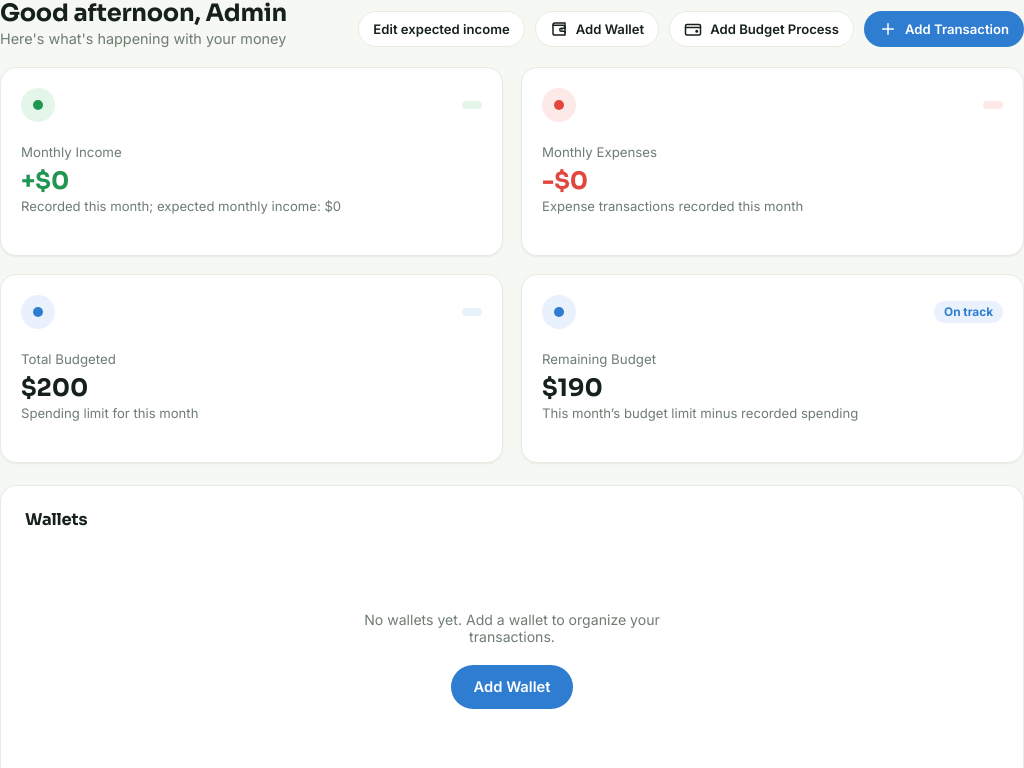
opens the same form from the empty-state action and preserves values after a failed save
Click the 2nd button "Add Wallet". click: (512, 687)
box: [451,665,573,709]
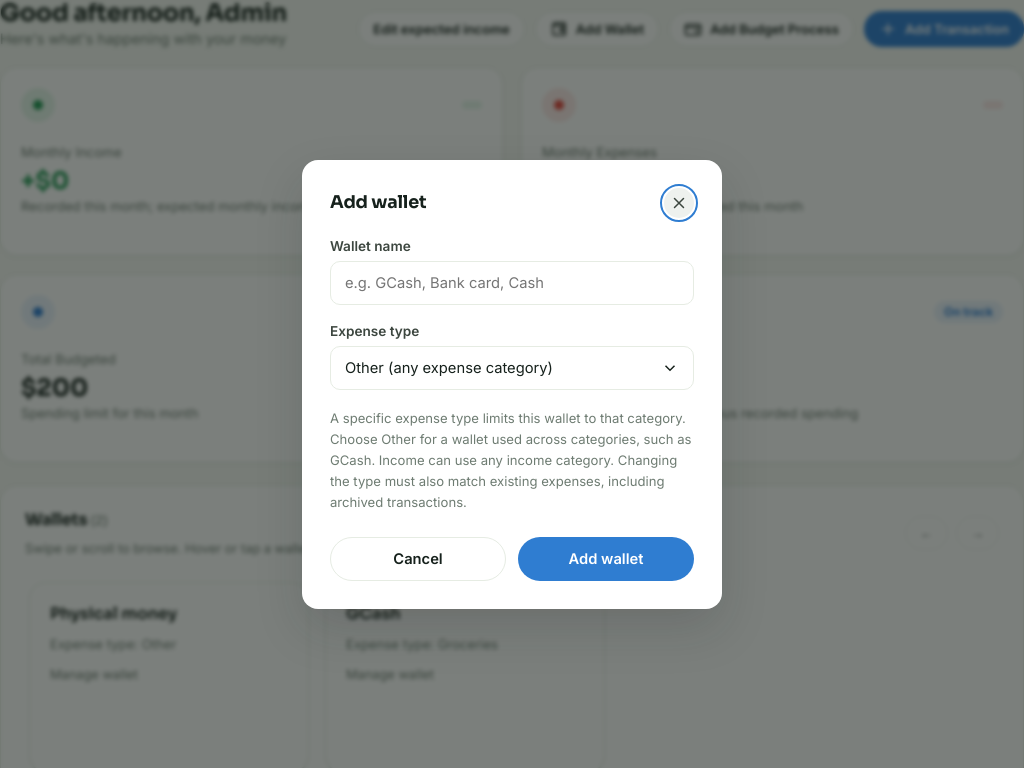
Type "Travel wallet" into the field labelled "Wallet name". click: (512, 282)
box: [330,260,694,304]
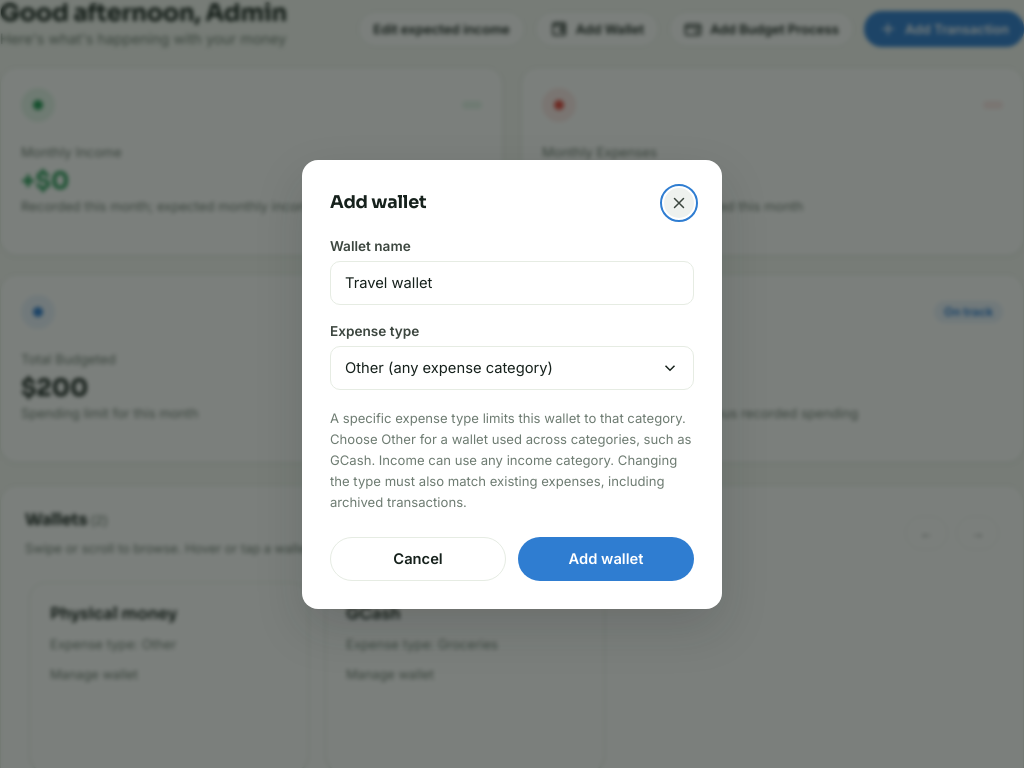
Click the button named "Choose expense type". click: (670, 368)
box: [650,350,690,386]
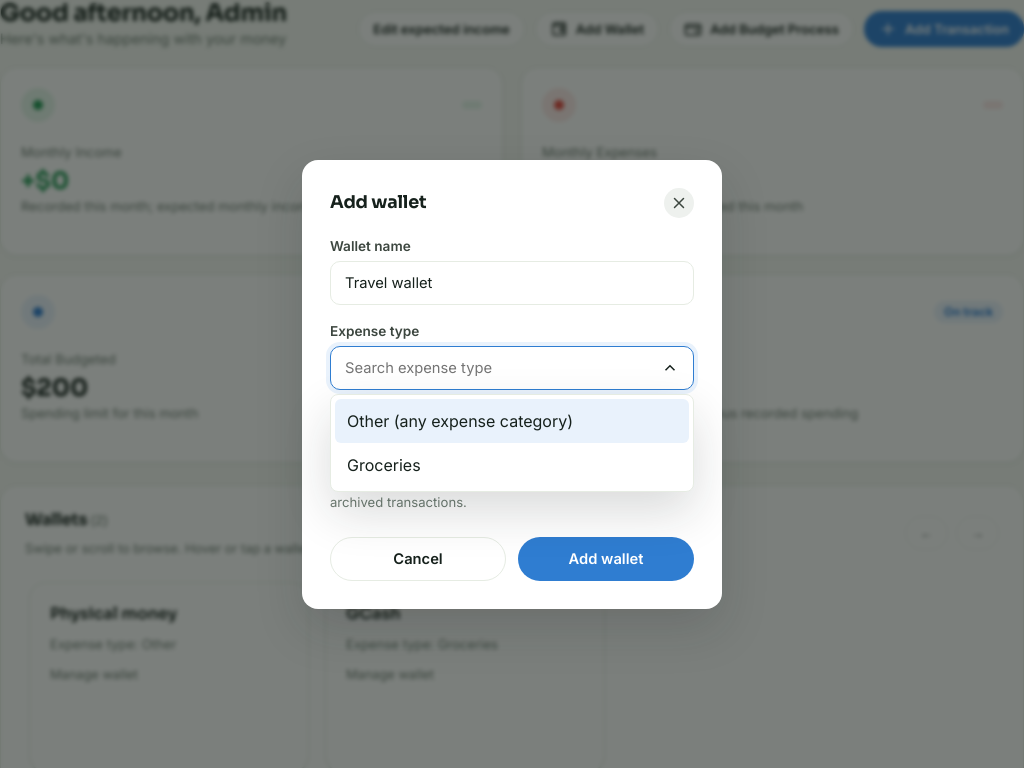
Click the option "Groceries". click: (384, 464)
box: [347,454,421,474]
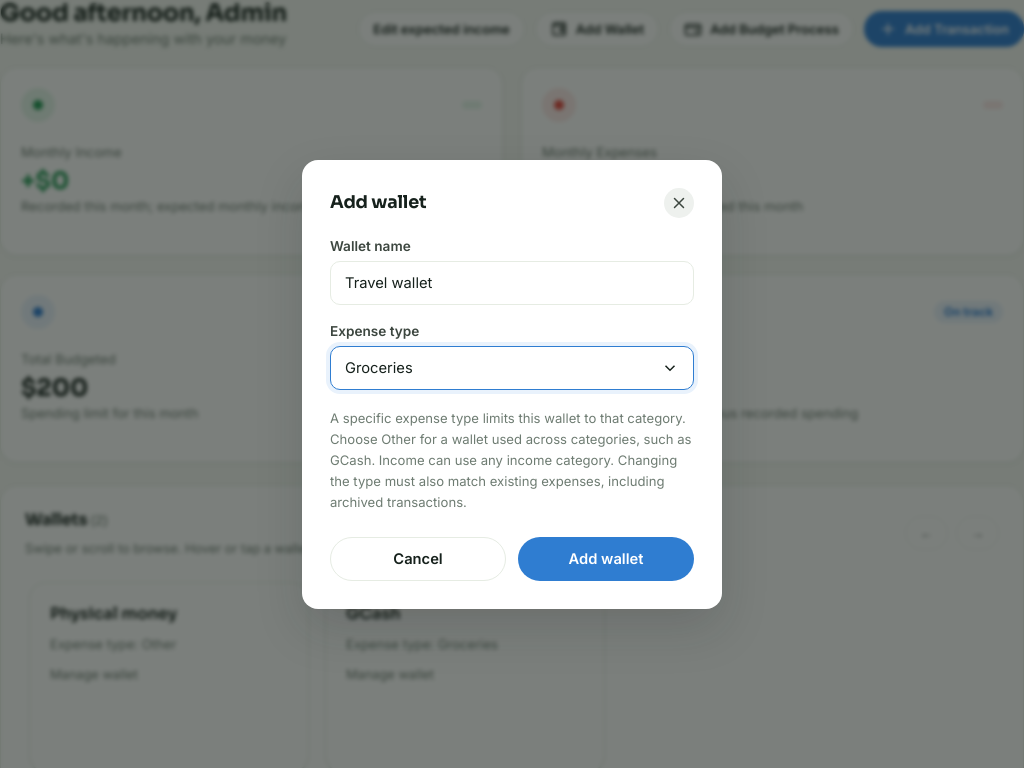
Click the button "Add wallet". click: (606, 558)
box: [518,536,694,580]
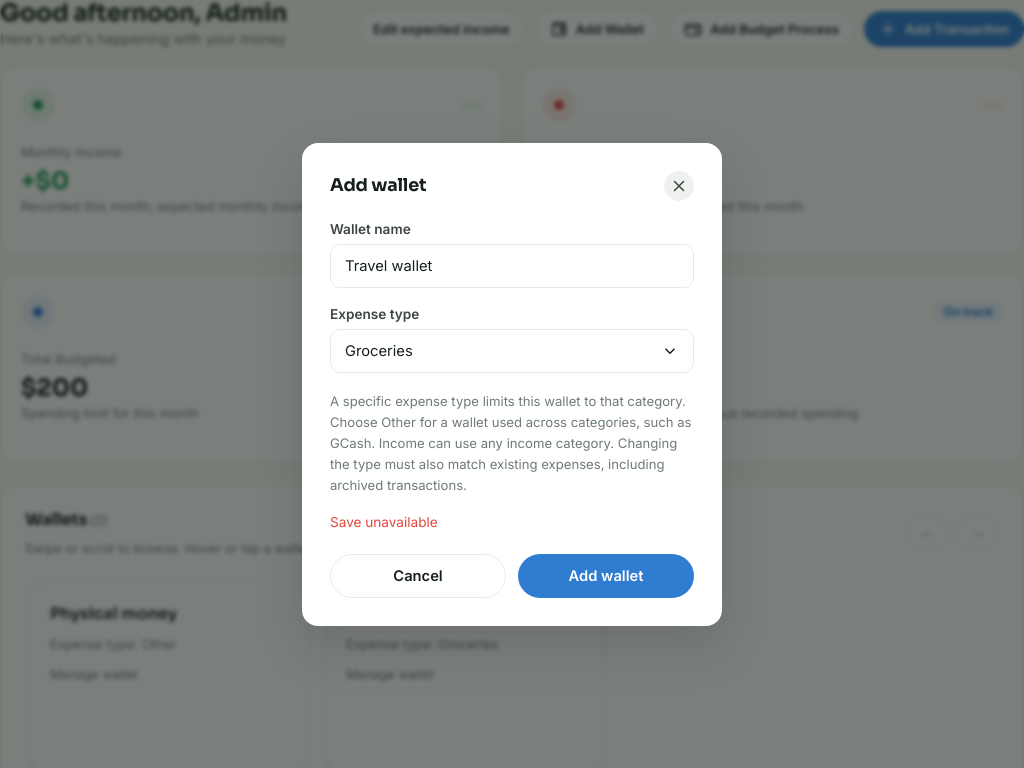
Result: the dropdown labelled "Expense type" holds "Groceries" at [330,328,694,372]
Result: the message reads "Save unavailable" at [330,514,438,530]
